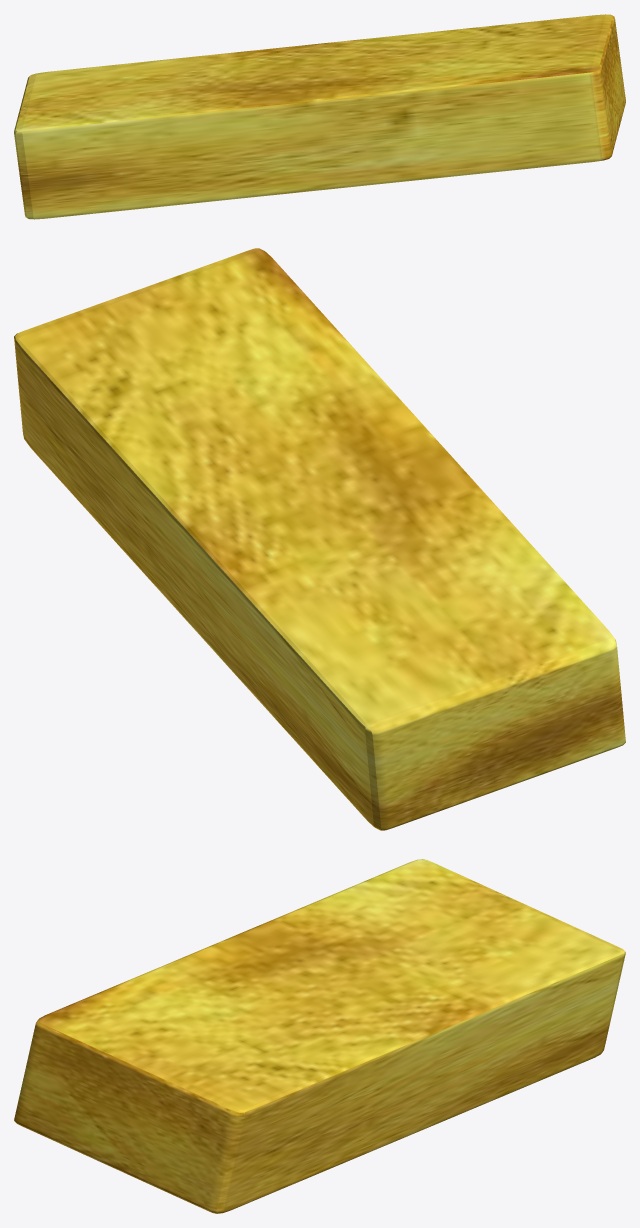
Rendered from gold.glb.
The picture shows the model from 3 angles, top to bottom: view 1: azimuth 30°, elevation 25°; view 2: azimuth 150°, elevation 25°; view 3: azimuth 270°, elevation 25°; orthographic projection. The views are drawn at different scales.
Parts seen in each view (by area): view 1: GoldBar_5; view 2: GoldBar_5; view 3: GoldBar_5.
Boxes of the visible parts, x1,y1,x2,y2 form: GoldBar_5: (14, 14, 625, 219); GoldBar_5: (14, 248, 625, 830); GoldBar_5: (14, 859, 625, 1213).
Size of the model in its own units: 4.84 by 1.61 by 4.02.
Materials: 1 (1 with a texture image).
